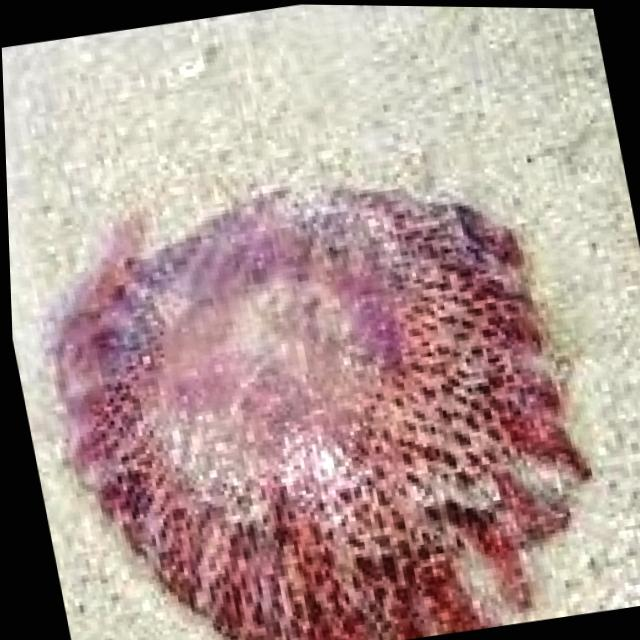Moon-jellyfish: (6, 135, 614, 640)
